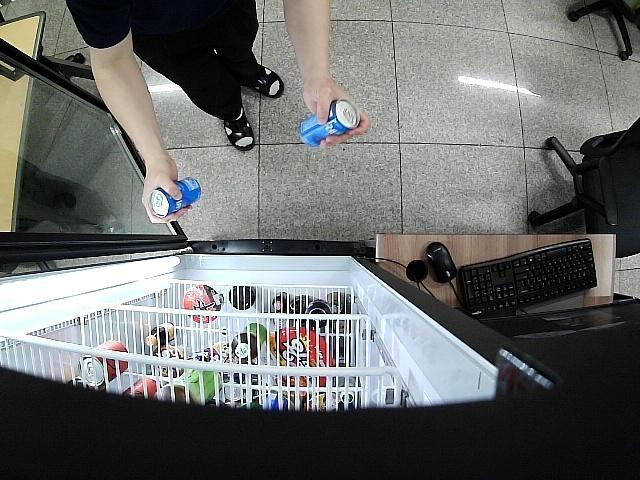15_letsbe: (300, 100, 360, 145), (150, 176, 201, 216)
